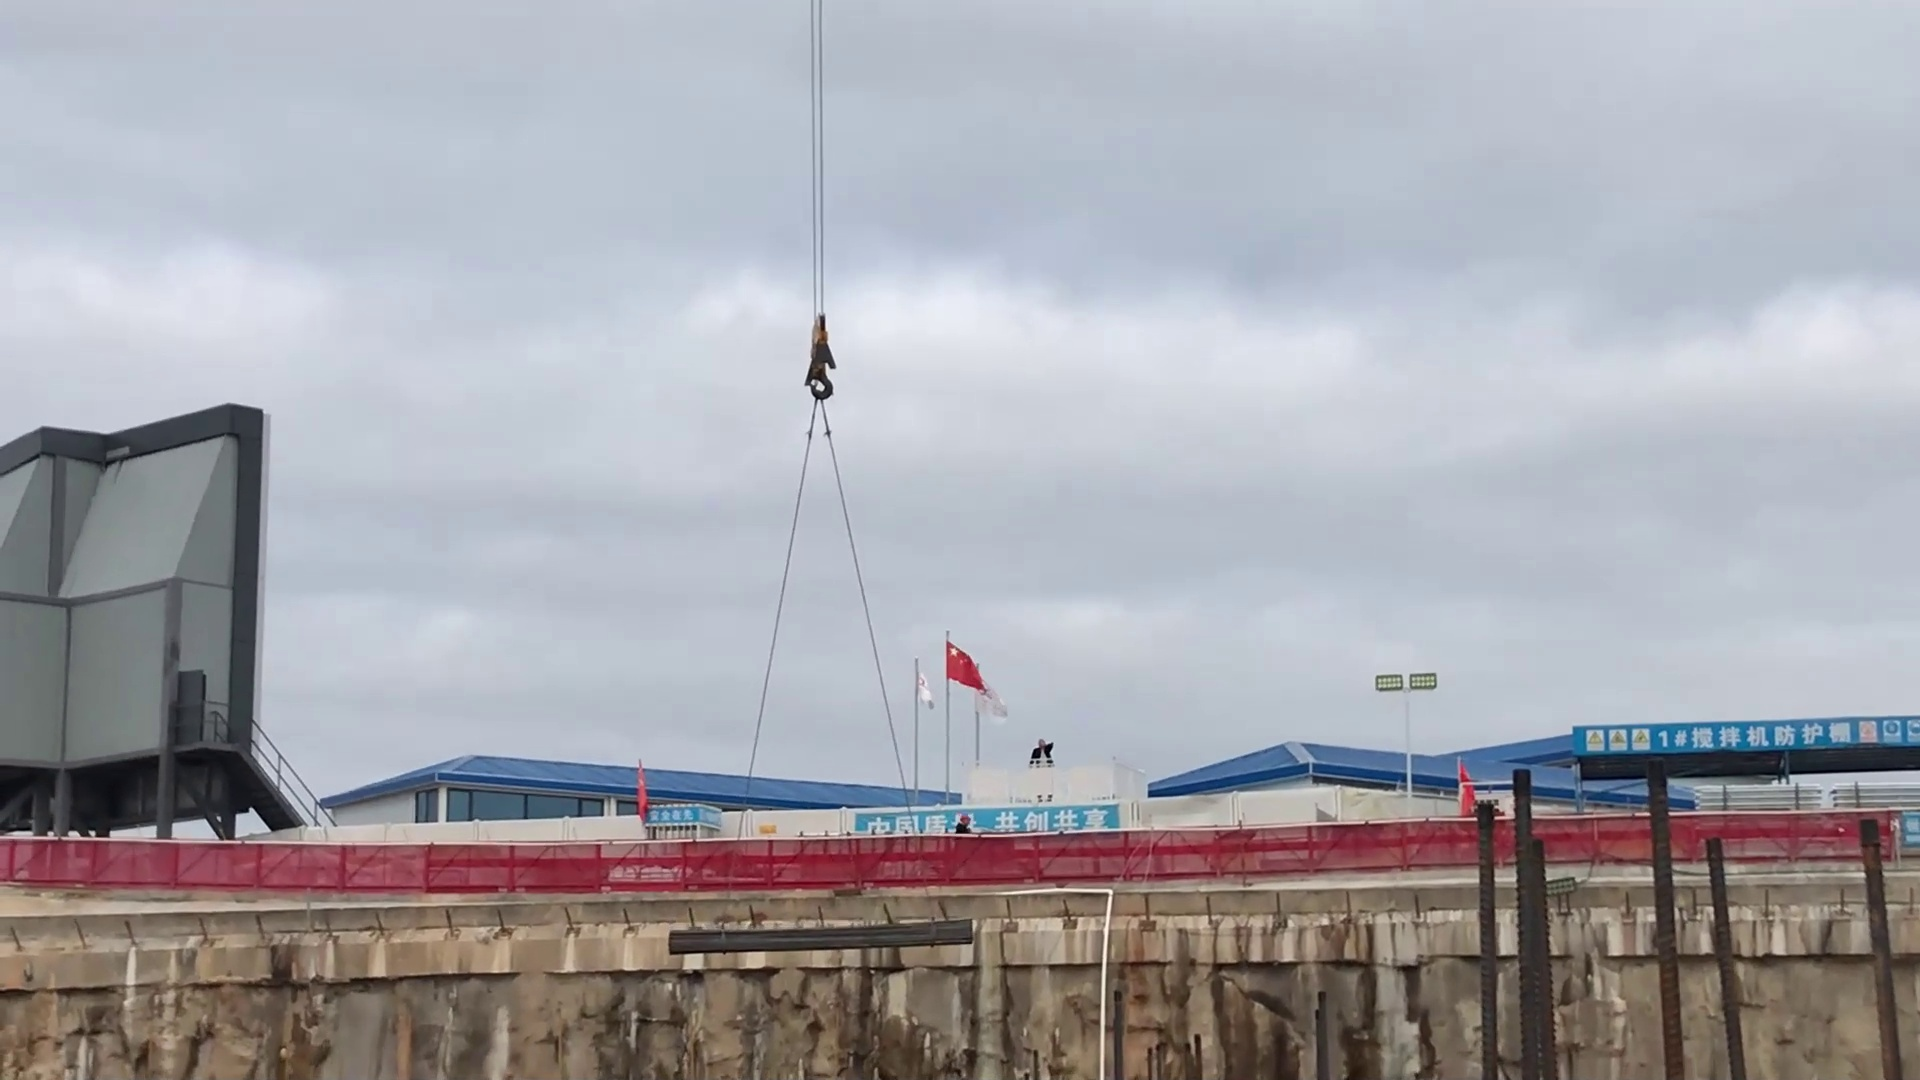fence: (1, 807, 1896, 898)
hook: (791, 307, 848, 411)
rebar: (659, 910, 982, 968)
slogan: (857, 802, 1116, 840)
